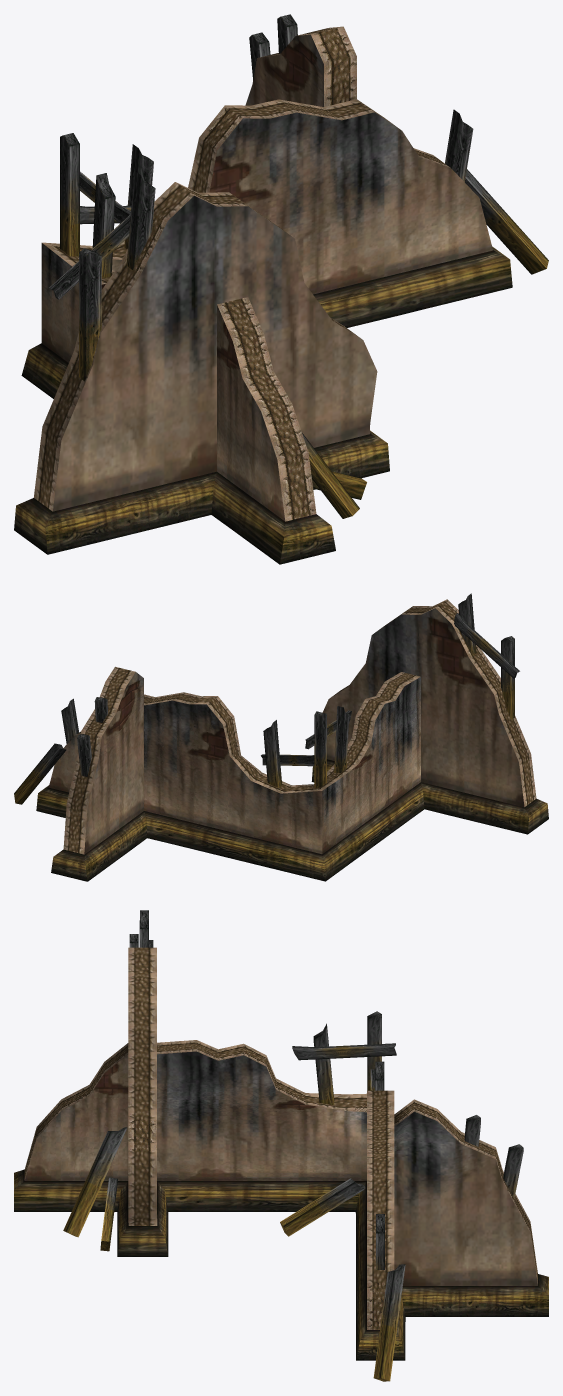
File: CB_BRKN_BUILDING07.fbx
The picture shows the model from 3 angles, top to bottom: view 1: azimuth 30°, elevation 25°; view 2: azimuth 150°, elevation 25°; view 3: azimuth 270°, elevation 25°; orthographic projection. The views are drawn at different scales.
Parts seen in each view (by area): view 1: CB_BRKN_BUILDING07; view 2: CB_BRKN_BUILDING07; view 3: CB_BRKN_BUILDING07.
Boxes of the visible parts, <box> form: CB_BRKN_BUILDING07: <box>14,14,548,564</box>; CB_BRKN_BUILDING07: <box>14,593,548,881</box>; CB_BRKN_BUILDING07: <box>14,910,548,1381</box>.
Size of the model in its own units: 267523 by 134367 by 242330.
5 materials, 5 textured.
